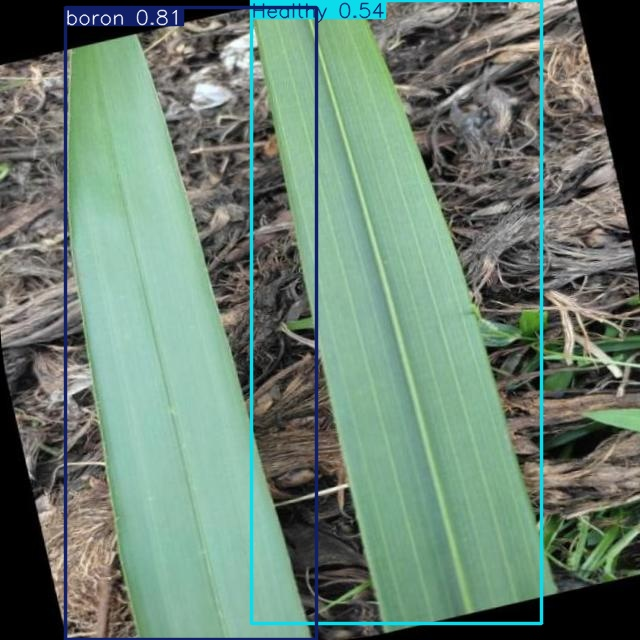Healthy: (252, 0, 542, 624)
nitrogen: (65, 8, 316, 640)
